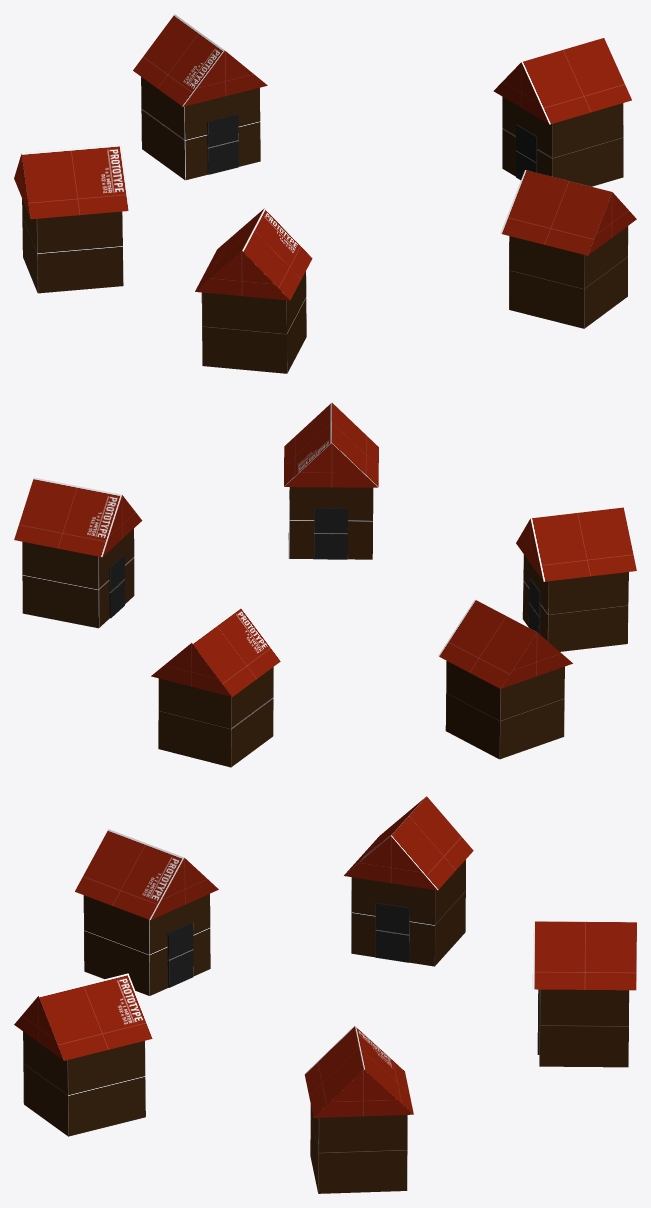
The model's file is consort village.glb.
3 views of the same model, one above another, from view 1: azimuth 30°, elevation 25°; view 2: azimuth 150°, elevation 25°; view 3: azimuth 270°, elevation 25° (orthographic). The views are drawn at different scales.
Parts seen in each view (by area): view 1: House.004, House.003, House, House.001, House.005; view 2: House.001, House.003, House, House.005, House.004; view 3: House.004, House.005, House.001, House.003, House.
Boxes of the visible parts, <box> form: House.004: <box>500,170,636,328</box>; House.003: <box>493,38,631,186</box>; House: <box>133,14,267,180</box>; House.001: <box>14,144,129,293</box>; House.005: <box>195,208,312,373</box>; House.001: <box>438,599,572,759</box>; House.003: <box>14,477,142,628</box>; House: <box>151,606,281,767</box>; House.005: <box>516,507,636,651</box>; House.004: <box>284,403,378,559</box>; House.004: <box>14,973,153,1136</box>; House.005: <box>75,829,218,995</box>; House.001: <box>344,796,473,966</box>; House.003: <box>304,1026,413,1193</box>; House: <box>532,921,636,1067</box>.
Size of the model in its own units: 22.66 by 4.81 by 20.9.
Materials: 3 (3 with a texture image).
